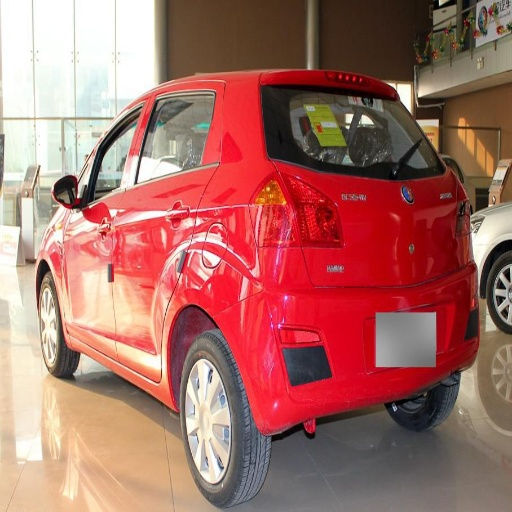back_bumper: (342, 306, 477, 399), (249, 345, 319, 432)
back_glass: (304, 90, 420, 166)
back_left_door: (117, 89, 219, 336)
back_right_door: (263, 84, 319, 184)
hood: (366, 207, 460, 285)
trunk: (280, 176, 450, 360)
